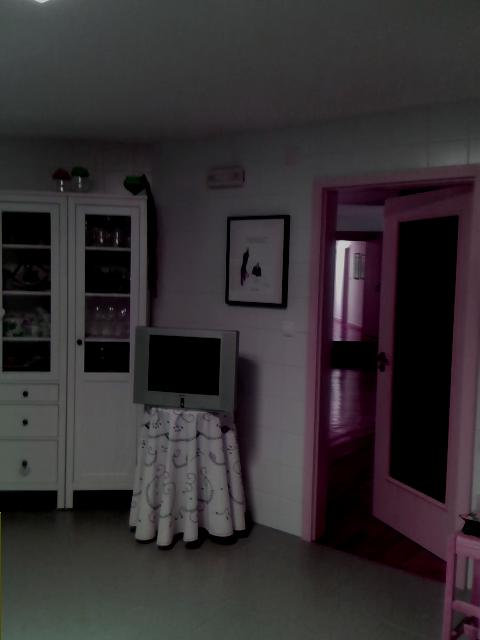semi_door: (299, 157, 479, 593)
